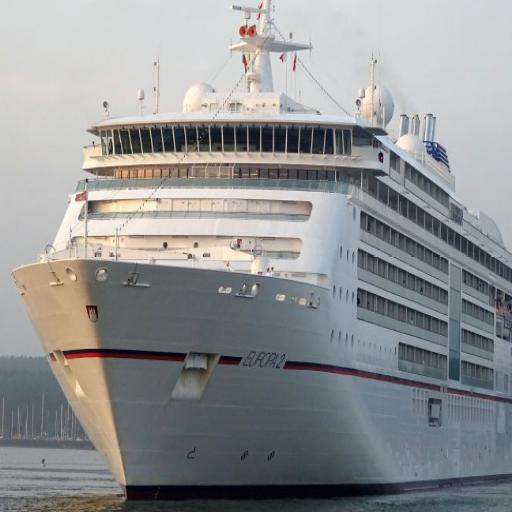cruises: (9, 1, 512, 509)
